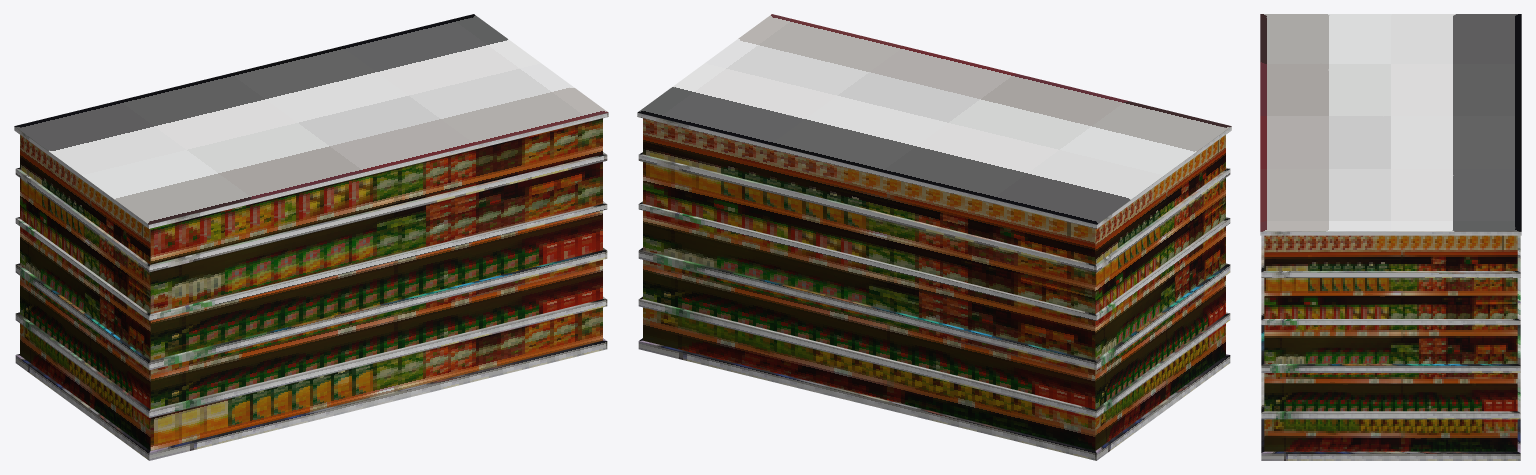
Rendered from Shelf 3.glb.
3 views of the same model, side by side, from view 1: azimuth 30°, elevation 25°; view 2: azimuth 150°, elevation 25°; view 3: azimuth 270°, elevation 25° (orthographic). The views are drawn at different scales.
Visible parts, largest first — view 1: Shelf3; view 2: Shelf3; view 3: Shelf3.
Part boxes in pixels (x1,y1,x2,y2): Shelf3: [14, 14, 608, 460]; Shelf3: [637, 14, 1231, 460]; Shelf3: [1260, 14, 1521, 460].
Size of the model in its own units: 4.06 by 2 by 2.06.
Materials: 2 (2 with a texture image).
